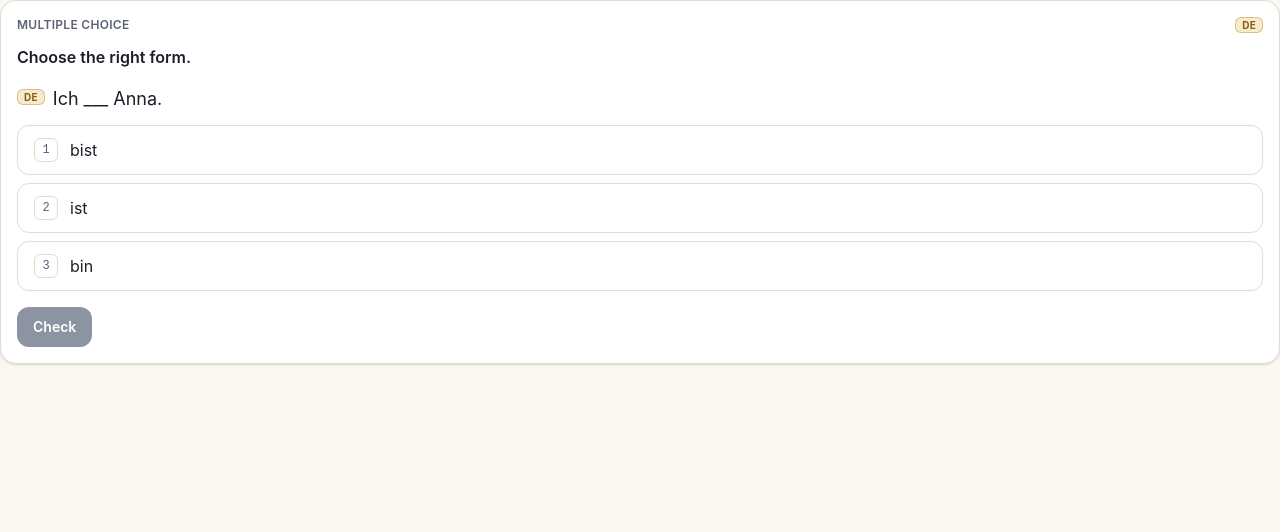
Scenario: ExercisePlayer — mcq › grades a correct choice, records the attempt and shows the explanation
Expected: the button "Check" is disabled, top-left (17, 307), bottom-right (92, 347)
Click the radio button labelled "bin" at x=46, y=266, box top-left (17, 241), bottom-right (1263, 291)
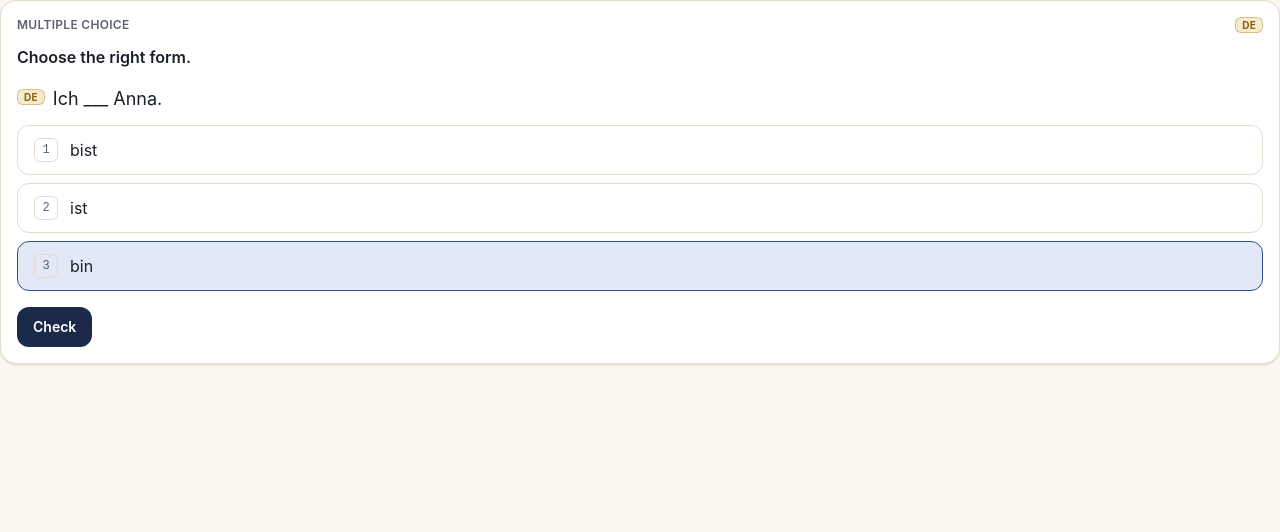
Expected: the button "Check" is enabled
Click the button "Check" at x=55, y=327, box top-left (17, 307), bottom-right (92, 347)
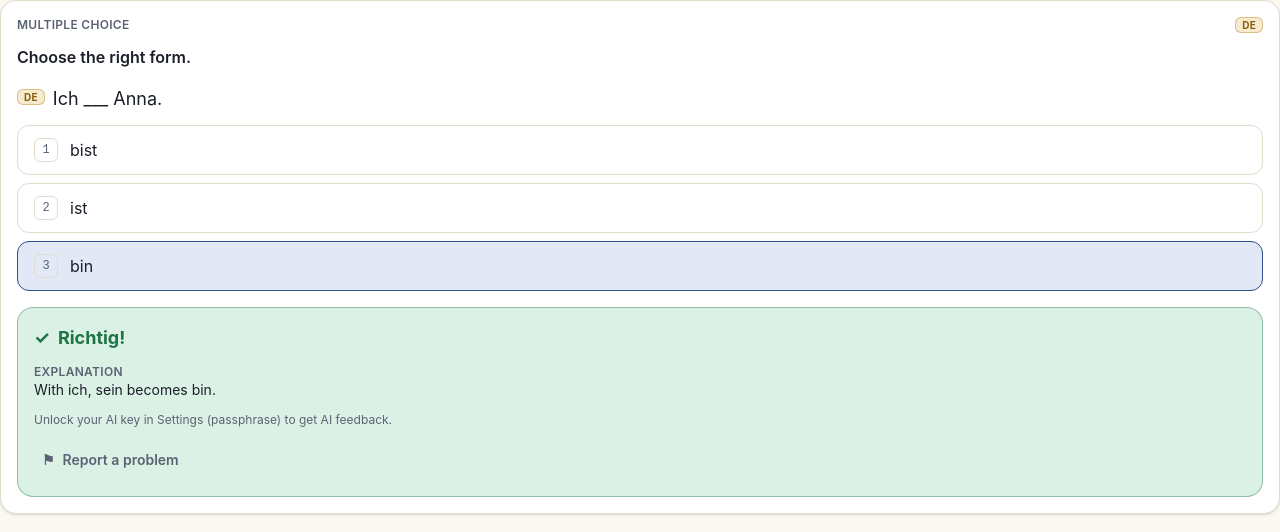
Expected: the text "Richtig!" is shown, top-left (58, 324), bottom-right (125, 352)
Expected: the text "With ich, sein becomes bin." is shown, top-left (34, 381), bottom-right (216, 398)
